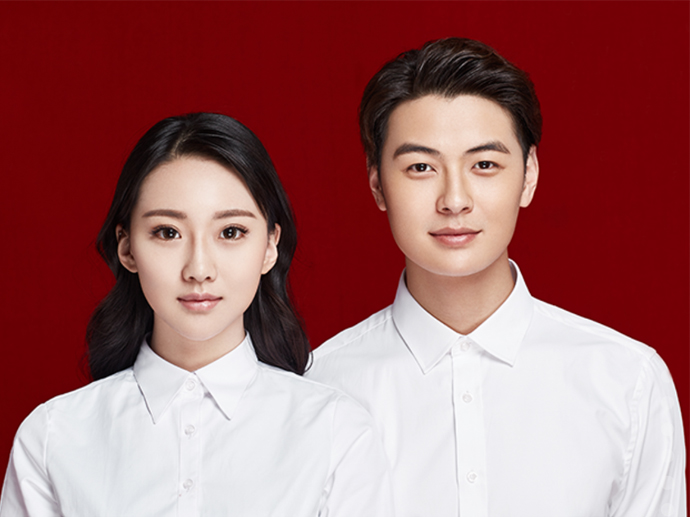unmask: (387, 109, 539, 270), (127, 169, 262, 332)
